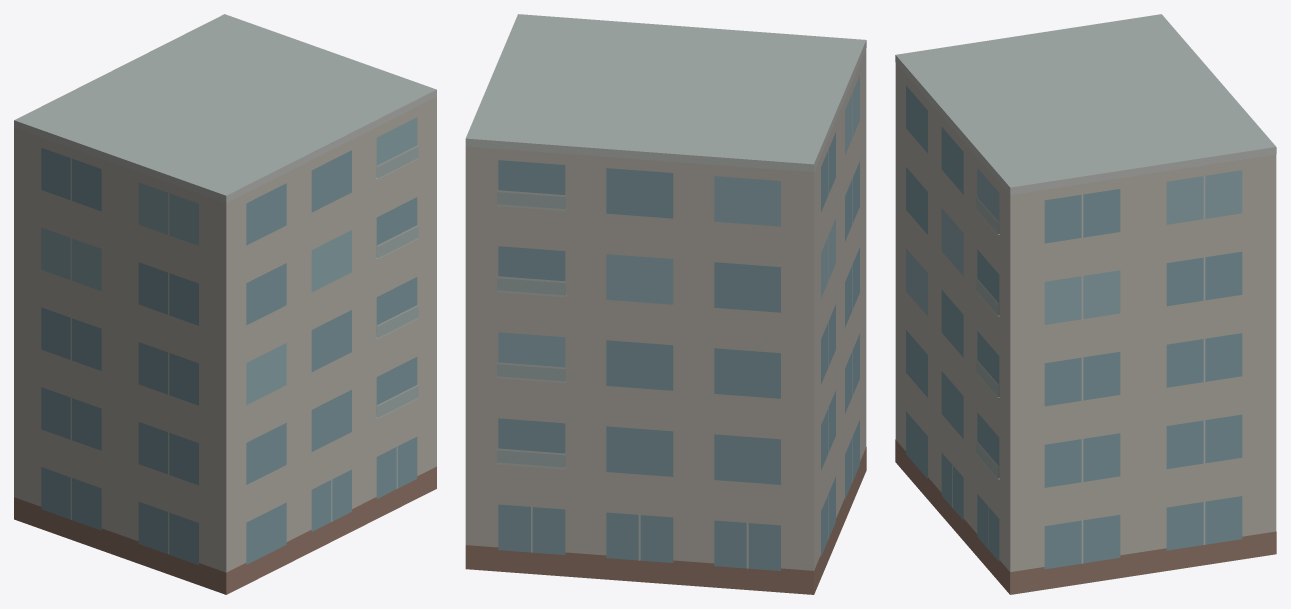
The model's file is survey-upis-33001672.glb.
3 views of the same model, side by side, from view 1: azimuth 30°, elevation 25°; view 2: azimuth 150°, elevation 25°; view 3: azimuth 270°, elevation 25° (orthographic). The views are drawn at different scales.
Visible parts, largest first — view 1: survey-upis-33001672.tmp; view 2: survey-upis-33001672.tmp; view 3: survey-upis-33001672.tmp.
Part boxes in pixels (left/top/right/bottom): survey-upis-33001672.tmp: left=14, top=14, right=436, bottom=594; survey-upis-33001672.tmp: left=465, top=14, right=866, bottom=594; survey-upis-33001672.tmp: left=895, top=14, right=1276, bottom=594.
Bounding box in the file's own units: 12.21 × 13.35 × 11.33.
